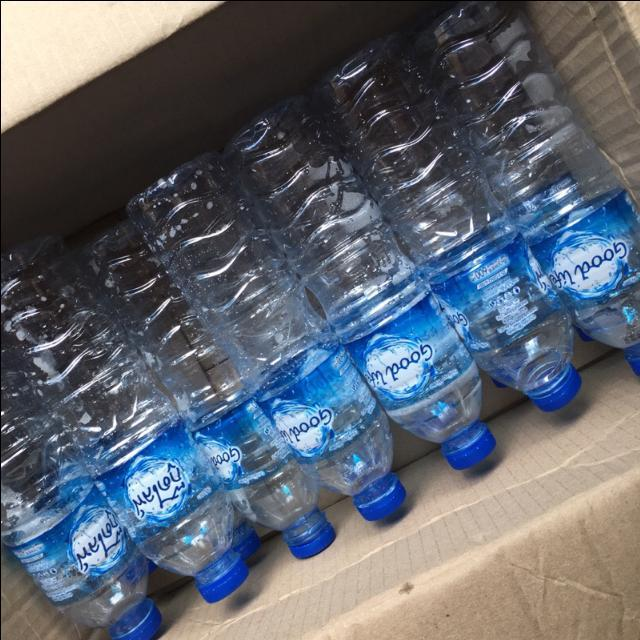PET Bottle: (207, 86, 525, 490), (354, 30, 590, 425), (447, 0, 640, 393)
